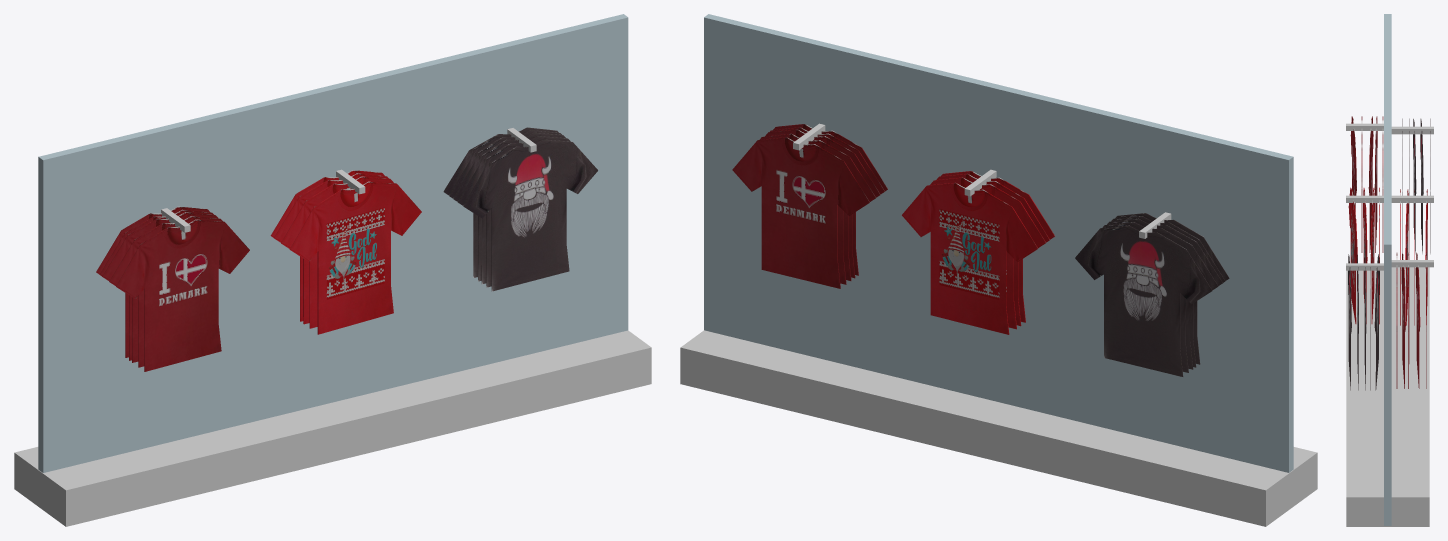
The model's file is reol3.gltf.
The picture shows the model from 3 angles, left to right: view 1: azimuth 30°, elevation 25°; view 2: azimuth 150°, elevation 25°; view 3: azimuth 270°, elevation 25°; orthographic projection. The views are drawn at different scales.
Parts seen in each view (by area): view 1: Cube, Cube.004, Plane.013, Plane.003, Plane.008, Plane.007, Plane.004, Plane.002, Plane.006, Plane.012, Plane.009, Plane.011 (+3 smaller); view 2: Cube, Cube.004, Plane.024, Plane.014, Plane.019, Plane.020, Plane.015, Plane.025, Plane.023, Plane.018, Plane.022, Plane.021 (+4 smaller); view 3: Cube.004, Cube, Plane.008, Plane.025, Plane.011, Plane.006, Plane.004, Plane.026, Plane.007, Plane.013, Cube.006, Plane.021 (+19 smaller).
Part boxes in pixels (bbox=[...]): Cube: bbox=[38, 14, 628, 472]; Cube.004: bbox=[14, 330, 651, 526]; Plane.013: bbox=[463, 139, 597, 291]; Plane.003: bbox=[116, 219, 249, 371]; Plane.008: bbox=[289, 181, 421, 334]; Plane.007: bbox=[281, 176, 393, 328]; Plane.004: bbox=[102, 212, 218, 362]; Plane.002: bbox=[109, 216, 222, 367]; Plane.006: bbox=[274, 173, 388, 324]; Plane.012: bbox=[457, 136, 570, 287]; Plane.009: bbox=[453, 132, 565, 284]; Plane.011: bbox=[443, 127, 558, 277]; Cube: bbox=[704, 14, 1293, 472]; Cube.004: bbox=[680, 330, 1317, 526]; Plane.024: bbox=[732, 137, 869, 288]; Plane.014: bbox=[1075, 225, 1212, 376]; Plane.019: bbox=[902, 182, 1038, 334]; Plane.020: bbox=[930, 177, 1046, 329]; Plane.015: bbox=[1102, 222, 1218, 372]; Plane.025: bbox=[760, 133, 875, 284]; Plane.023: bbox=[765, 129, 880, 280]; Plane.018: bbox=[1107, 218, 1222, 369]; Plane.022: bbox=[941, 171, 1055, 322]; Plane.021: bbox=[936, 174, 1049, 326]; Cube.004: bbox=[1346, 267, 1429, 526]; Cube: bbox=[1384, 14, 1391, 525]; Plane.008: bbox=[1348, 187, 1357, 323]; Plane.025: bbox=[1415, 252, 1420, 388]; Plane.011: bbox=[1374, 254, 1379, 390]; Plane.006: bbox=[1371, 188, 1374, 323]; Plane.004: bbox=[1368, 116, 1373, 252]; Plane.026: bbox=[1401, 253, 1405, 388]; Plane.007: bbox=[1363, 188, 1367, 323]; Plane.013: bbox=[1348, 254, 1351, 390]; Cube.006: bbox=[1391, 126, 1433, 134]; Plane.021: bbox=[1405, 189, 1408, 325].
Size of the model in its own units: 6.65 by 3.79 by 1.07.
Materials: 6 (3 with a texture image).
